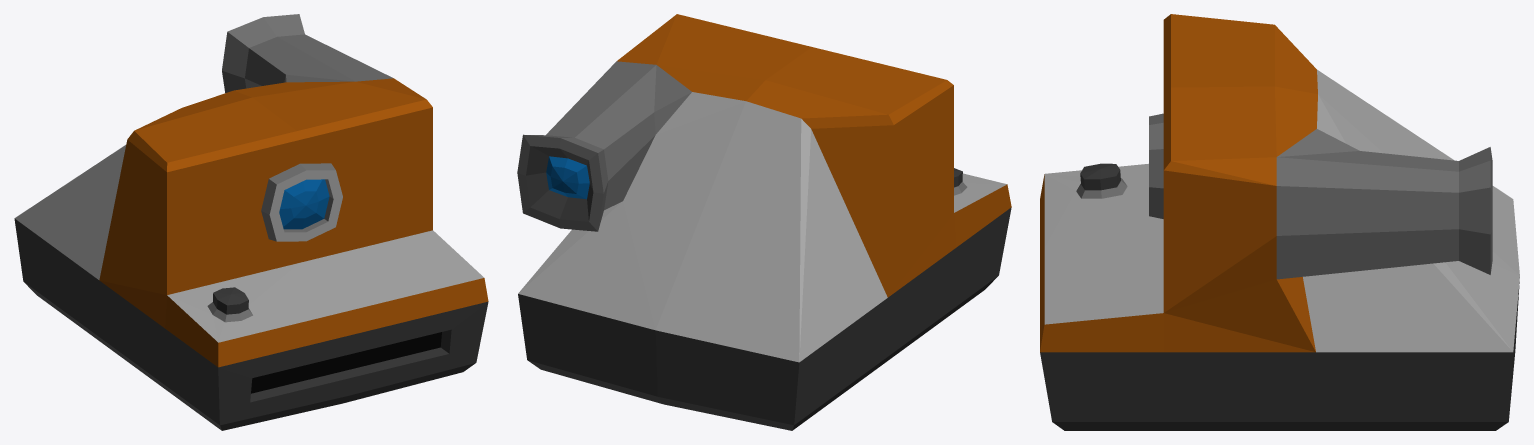
File: InstantCamera.fbx
3 views of the same model, side by side, from view 1: azimuth 30°, elevation 25°; view 2: azimuth 150°, elevation 25°; view 3: azimuth 270°, elevation 25° (orthographic). The views are drawn at different scales.
Parts seen in each view (by area): view 1: Body; view 2: Body; view 3: Body.
Part boxes in pixels (x1,y1,x2,y2): Body: (14, 14, 488, 430); Body: (517, 14, 1011, 430); Body: (1040, 14, 1519, 430).
Size of the model in its own units: 264 by 213 by 333.
